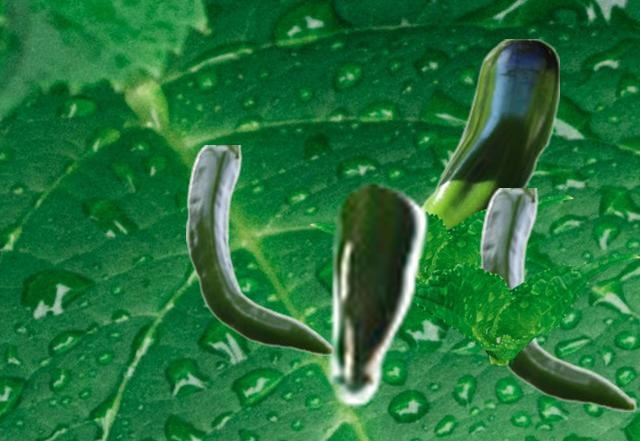green_chili: (479, 188, 636, 410), (186, 145, 325, 354), (424, 39, 558, 228), (321, 180, 429, 407)
